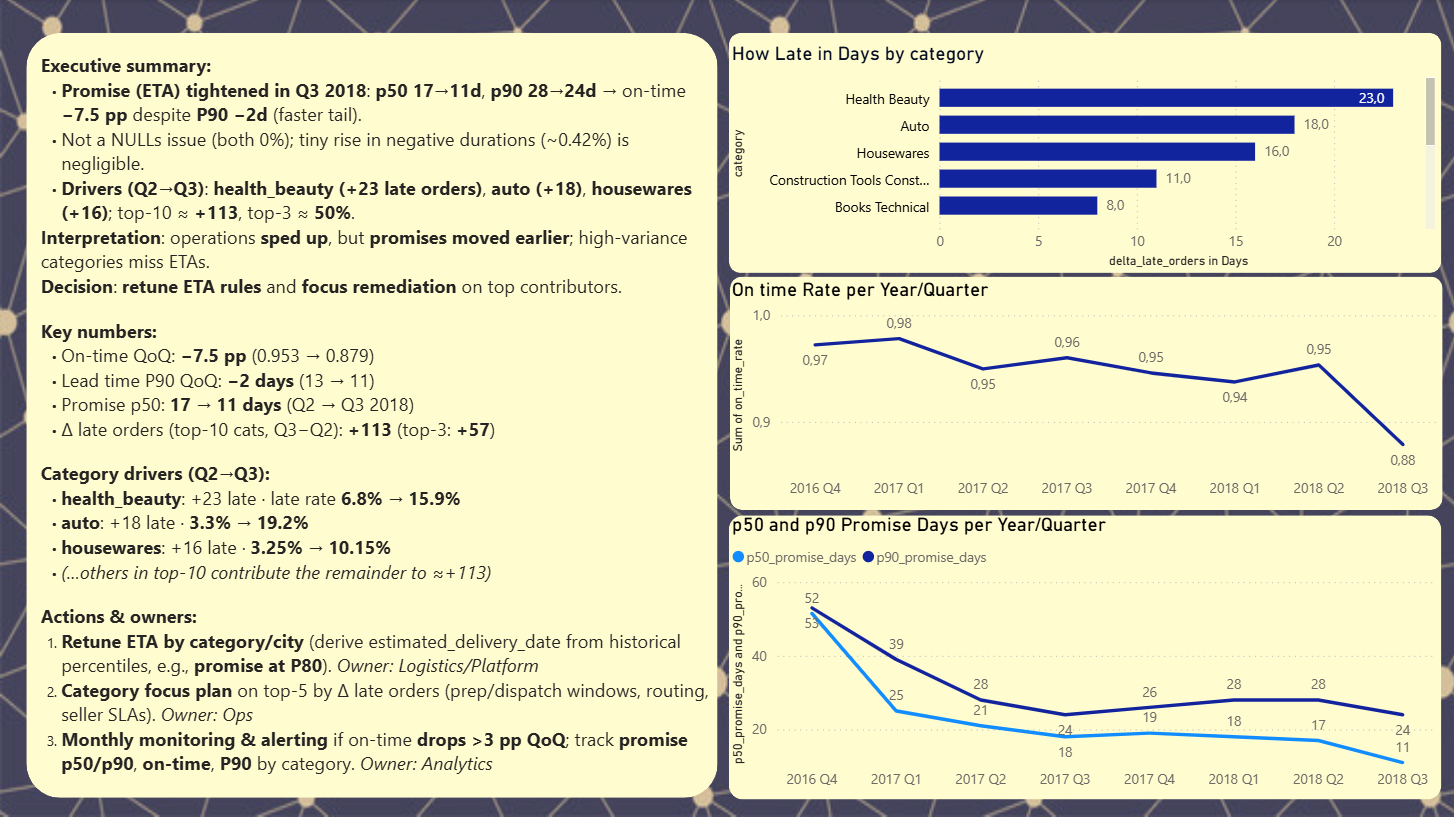

What the dashboard file says about the page in this screenshot:
{"tool":"powerbi","page":{"name":"Summary","canvas":[1280,720],"ordinal":3},"visuals":[{"type":"shape","box":[640.8,453.9,626.9,250.1],"z":0},{"type":"shape","box":[23.2,29.3,608.3,673.2],"z":1000},{"type":"shape","box":[640.8,29.3,626.9,211.5],"z":2000},{"type":"shape","box":[642.3,244,626.9,205.4],"z":3000},{"type":"textbox","box":[30.9,41.7,600.6,679.4],"z":4000},{"type":"clusteredBarChart","title":"How Late in Days by category","fields":{"Category":["vw_delta_late_orders_cat_sp.category"],"Y":["Sum(vw_delta_late_orders_cat_sp.delta_late_orders)"]},"box":[639.2,37.1,628.4,203.8],"z":5000},{"type":"lineChart","title":"On time Rate per Year/Quarter","fields":{"Y":["Sum(analytics vw_promise_vs_ontime_quarter_sp.on_time_rate)"],"Category":["analytics vw_promise_vs_ontime_quarter_sp.YearQuarter"]},"box":[639.2,245.5,630,203.8],"z":6000},{"type":"lineChart","title":"p50 and p90 Promise Days per Year/Quarter","fields":{"Category":["analytics vw_promise_vs_ontime_quarter_sp.YearQuarter"],"Y":["Sum(analytics vw_promise_vs_ontime_quarter_sp.p50_promise_days)","Sum(analytics vw_promise_vs_ontime_quarter_sp.p90_promise_days)"]},"box":[639.2,452.4,630,253.2],"z":7000}]}

Visuals, with their boxes in screenshot pixels (x1, y1, x2, y2), scaled from the page's 1280x720 canvas onto the 1454x817 screenshot:
shape: <region>728, 515, 1440, 799</region>
shape: <region>26, 33, 717, 797</region>
shape: <region>728, 33, 1440, 273</region>
shape: <region>730, 277, 1442, 510</region>
textbox: <region>35, 47, 717, 816</region>
"How Late in Days by category" clusteredBarChart: <region>726, 42, 1440, 273</region>
"On time Rate per Year/Quarter" lineChart: <region>726, 279, 1442, 510</region>
"p50 and p90 Promise Days per Year/Quarter" lineChart: <region>726, 513, 1442, 801</region>
